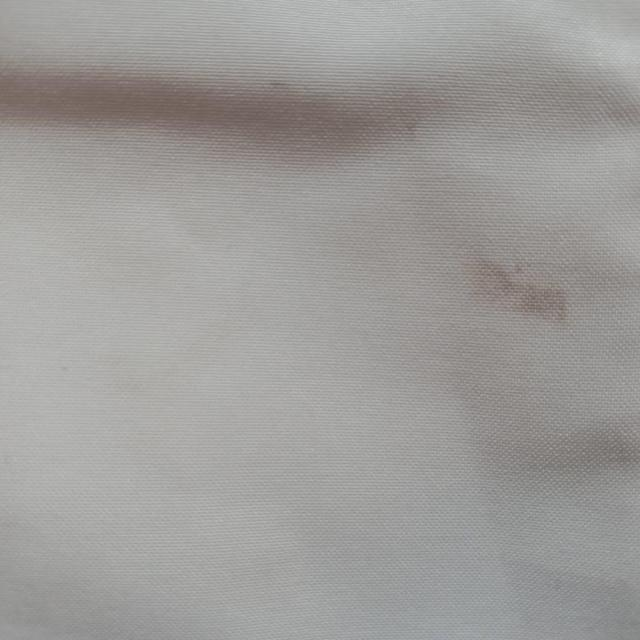stain: (441, 220, 589, 331), (386, 82, 444, 140), (256, 67, 304, 99)
